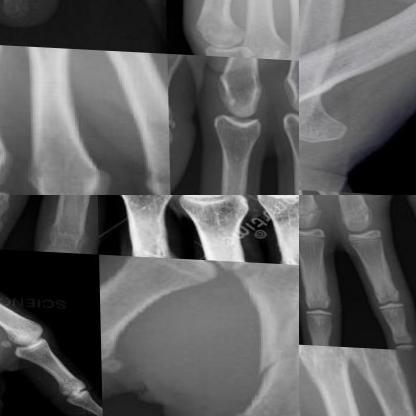fracture: (220, 269, 298, 388)
